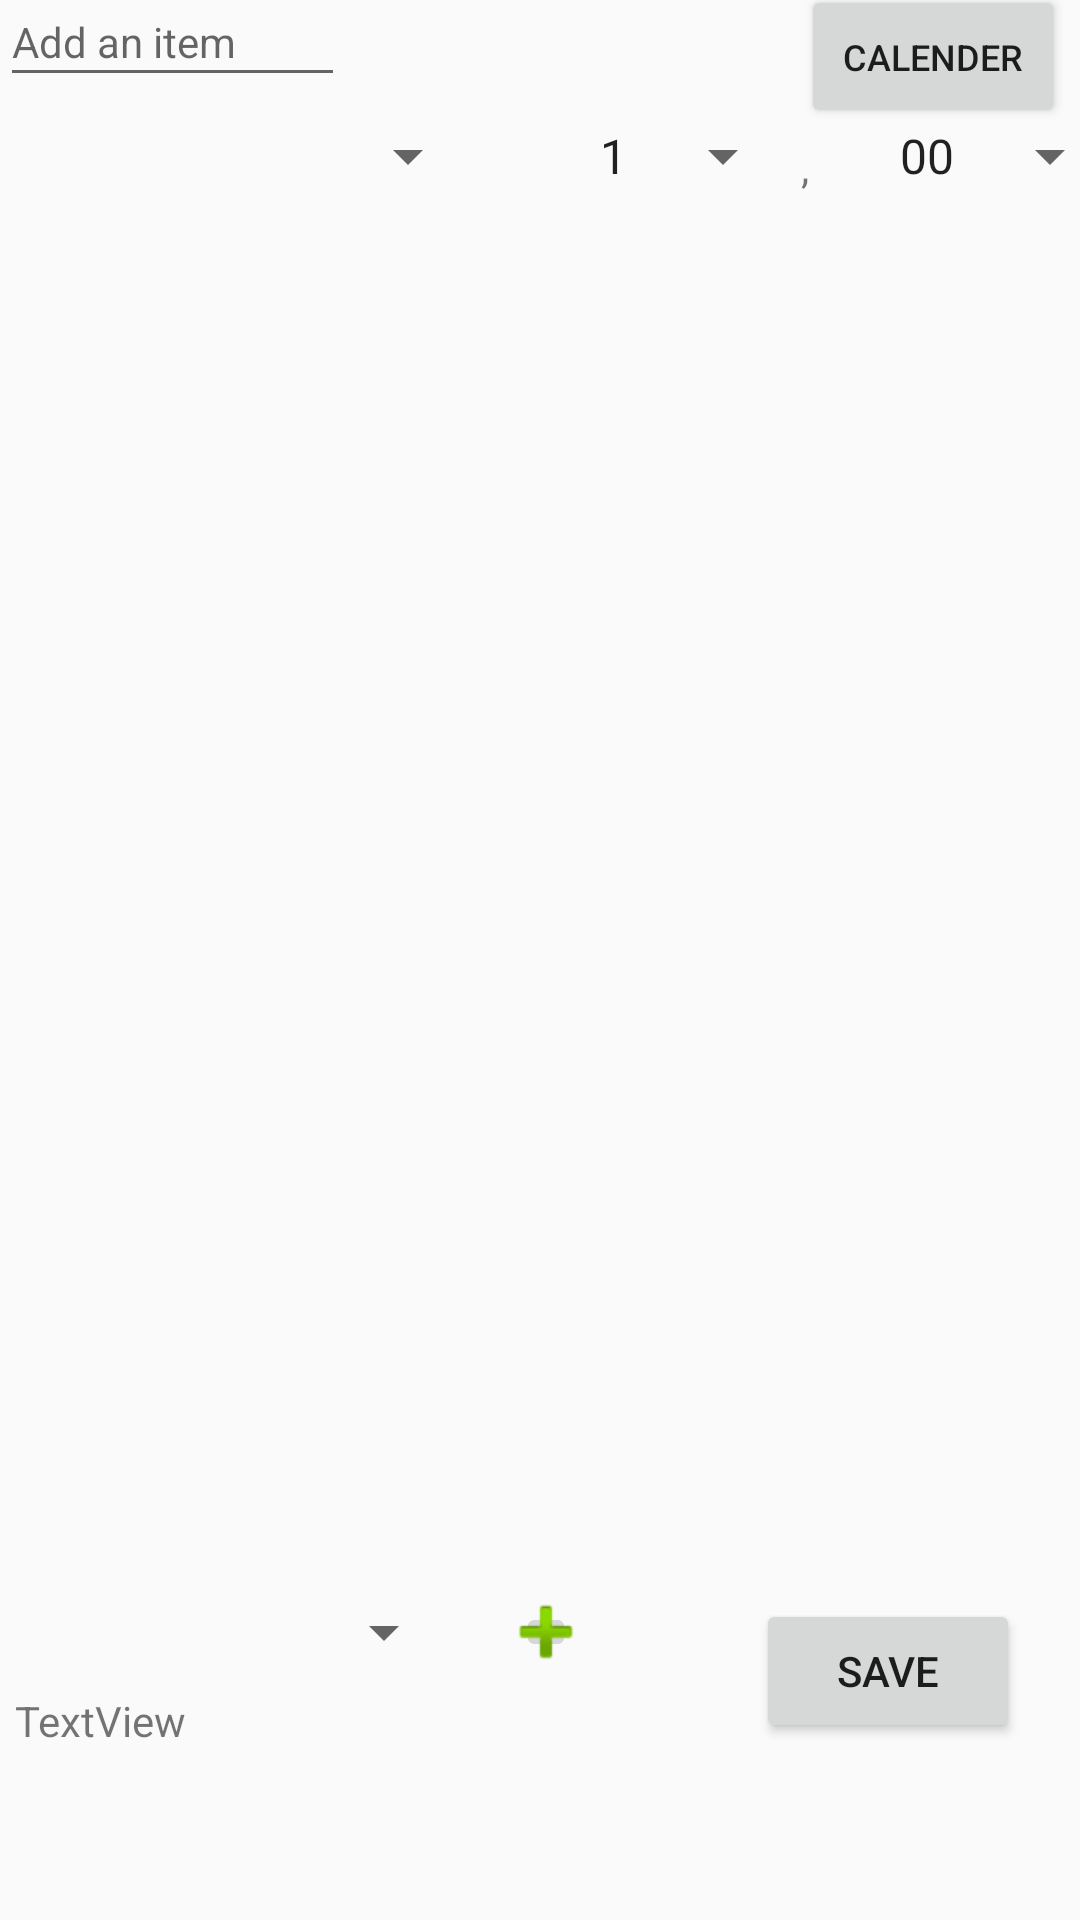

Icon click points for this 1080×1920 phone screenshot, format (x=x, y=y):
add: (x=546, y=1632)
